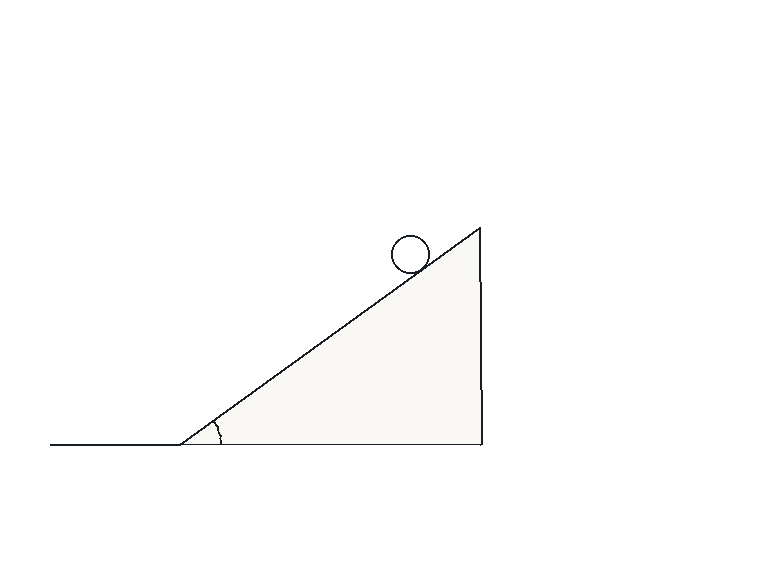ball: (389, 233, 431, 275)
ramp: (179, 225, 482, 446)
